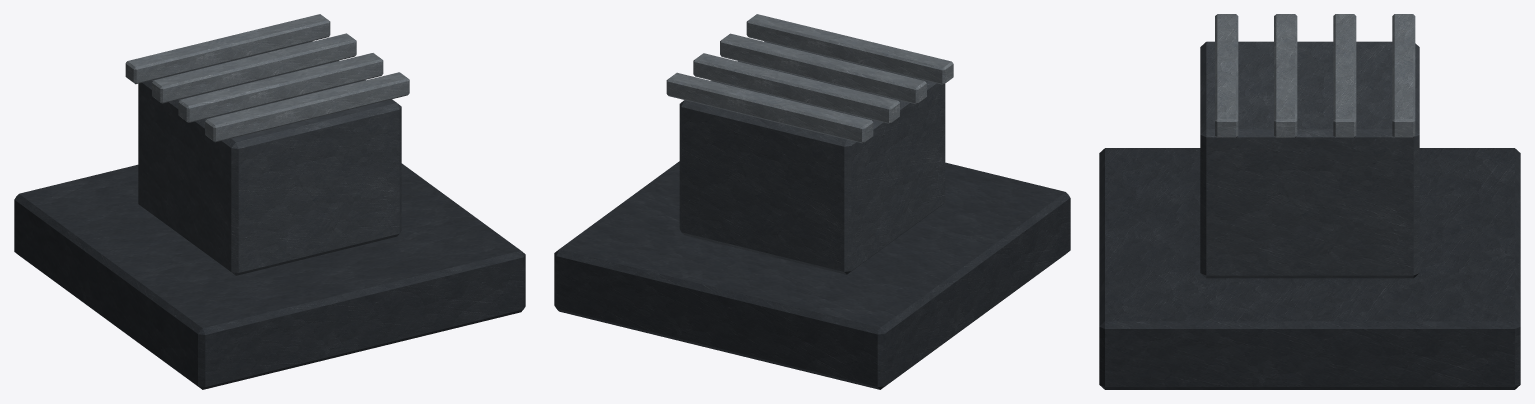
Rendered from train_roof_vent.gltf.
3 views of the same model, side by side, from view 1: azimuth 30°, elevation 25°; view 2: azimuth 150°, elevation 25°; view 3: azimuth 270°, elevation 25° (orthographic). The views are drawn at different scales.
Size of the model in its own units: 1 by 0.62 by 1.
3 materials, 3 textured.
